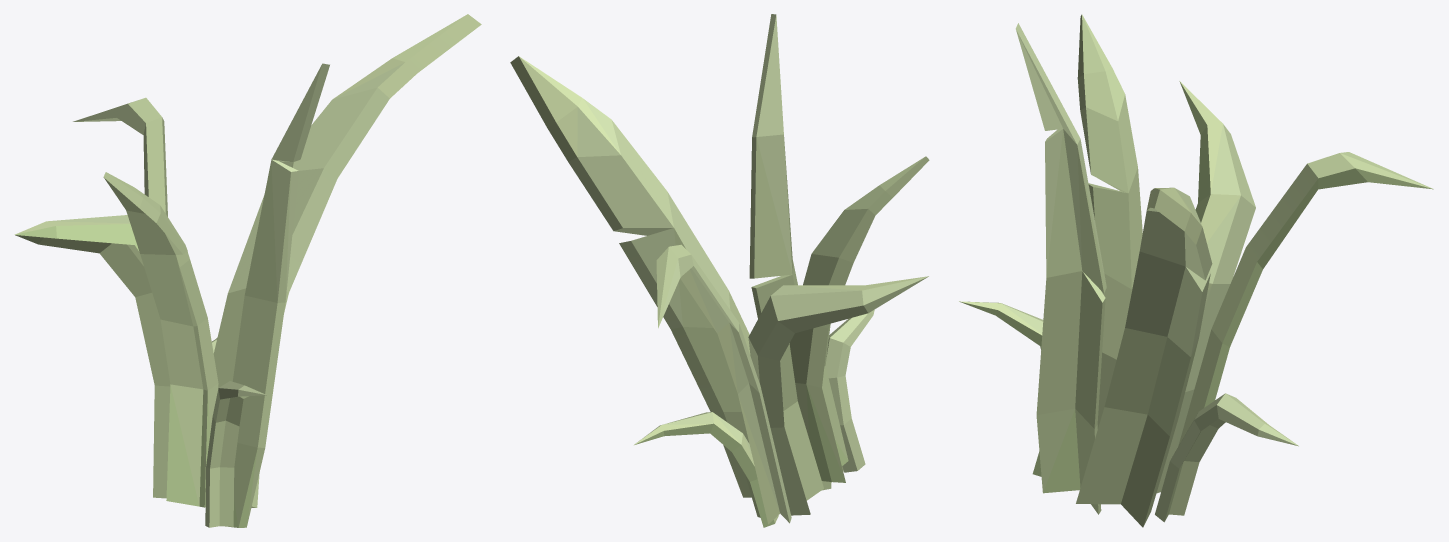
Rendered from grass_11.glb.
3 views of the same model, side by side, from view 1: azimuth 30°, elevation 25°; view 2: azimuth 150°, elevation 25°; view 3: azimuth 270°, elevation 25° (orthographic). The views are drawn at different scales.
Visible parts, largest first — view 1: PP_Grass_11.002; view 2: PP_Grass_11.002; view 3: PP_Grass_11.002.
Part boxes in pixels (x1=…): PP_Grass_11.002: x1=14, y1=14, x2=481, y2=527; PP_Grass_11.002: x1=510, y1=14, x2=929, y2=527; PP_Grass_11.002: x1=959, y1=14, x2=1433, y2=527.
Size of the model in its own units: 0.6356 by 0.6325 by 0.5188.
